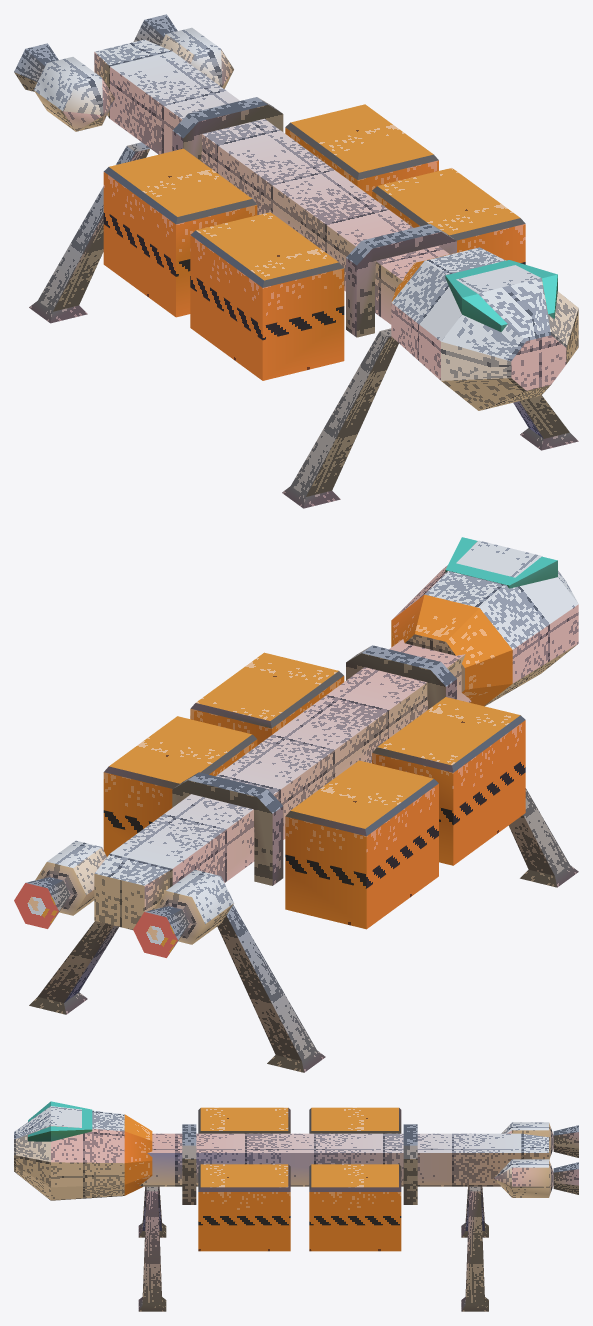
The model's file is ship.hauler.glb.
3 renders of one model, top to bottom at view 1: azimuth 30°, elevation 25°; view 2: azimuth 150°, elevation 25°; view 3: azimuth 270°, elevation 25°, orthographic. The views are drawn at different scales.
Parts seen in each view (by area): view 1: kit_pods, kit_spine, kit_cab, kit_legs, kit_clamps, kit_nacelles, kit_cab_glass, kit_bells; view 2: kit_pods, kit_spine, kit_cab, kit_legs, kit_clamps, kit_nacelles, kit_bells, kit_cab_glass; view 3: kit_pods, kit_spine, kit_cab, kit_legs, kit_nacelles, kit_clamps, kit_bells, kit_cab_glass.
Part boxes in pixels (box(x1,y1,x2,y2)): kit_pods: box(103, 104, 525, 380); kit_spine: box(94, 39, 449, 324); kit_cab: box(391, 247, 578, 410); kit_legs: box(29, 142, 578, 508); kit_clamps: box(172, 97, 456, 337); kit_nacelles: box(34, 27, 233, 131); kit_cab_glass: box(445, 260, 557, 332); kit_bells: box(14, 14, 177, 91); kit_pods: box(103, 652, 525, 929); kit_spine: box(94, 639, 471, 929); kit_cab: box(391, 540, 578, 706); kit_legs: box(29, 788, 578, 1072); kit_clamps: box(172, 645, 456, 885); kit_nacelles: box(35, 840, 233, 944); kit_bells: box(14, 877, 188, 957); kit_cab_glass: box(445, 537, 557, 588); kit_pods: box(198, 1107, 401, 1251); kit_spine: box(139, 1133, 548, 1186); kit_cab: box(14, 1106, 152, 1200); kit_legs: box(138, 1186, 488, 1311); kit_nacelles: box(494, 1122, 553, 1197); kit_clamps: box(182, 1124, 417, 1204); kit_bells: box(553, 1125, 578, 1194); kit_cab_glass: box(28, 1101, 92, 1141).
Bounding box in the file's own units: 4.4 × 3.66 × 12.25.
Materials: 8 (7 with a texture image).
